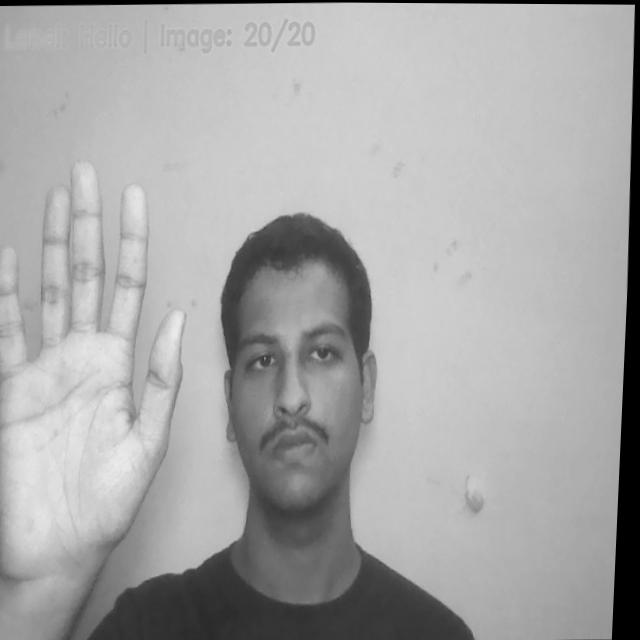Hello: (0, 152, 199, 569)
